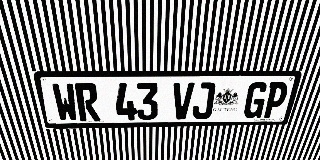3: (137, 83, 158, 120)
4: (114, 83, 137, 121)
G: (242, 82, 270, 118)
J: (192, 82, 216, 119)
P: (261, 82, 290, 118)
R: (74, 83, 100, 121)
V: (172, 82, 195, 120)
W: (51, 83, 79, 122)
